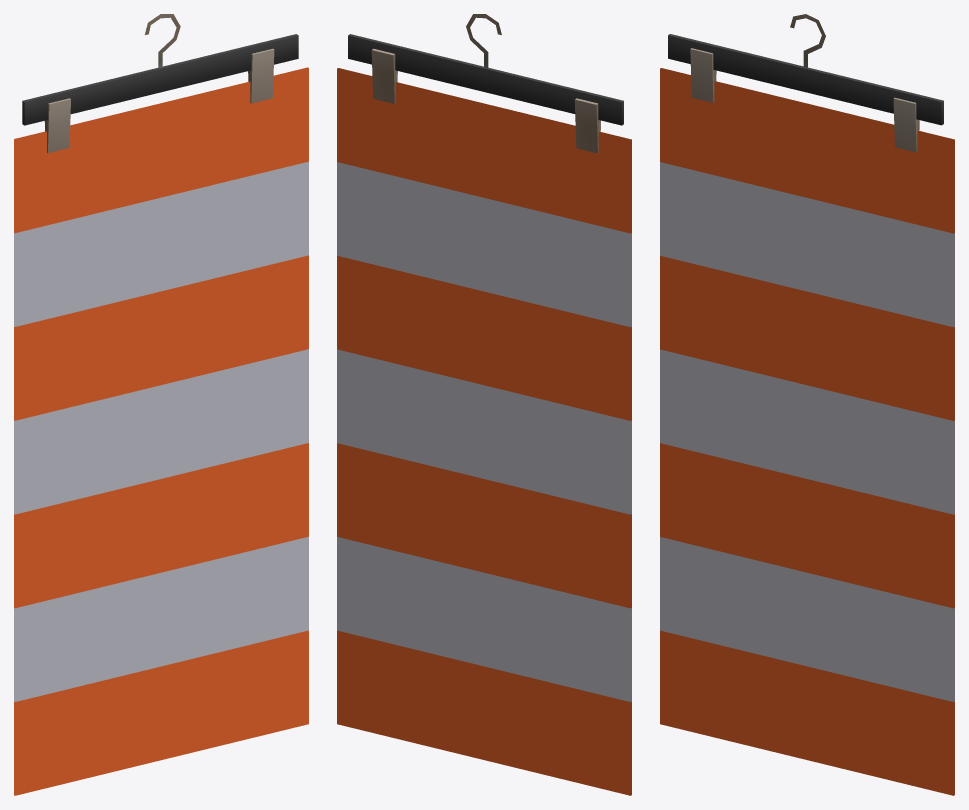
The model's file is Hang_Towel_07.fbx.
The picture shows the model from 3 angles, left to right: view 1: azimuth 30°, elevation 25°; view 2: azimuth 150°, elevation 25°; view 3: azimuth 330°, elevation 25°; orthographic projection.
Parts seen in each view (by area): view 1: Hang_Towel_07; view 2: Hang_Towel_07; view 3: Hang_Towel_07.
Boxes of the visible parts, left/top/right/bottom form: Hang_Towel_07: left=14, top=14, right=308, bottom=795; Hang_Towel_07: left=337, top=14, right=631, bottom=795; Hang_Towel_07: left=660, top=14, right=954, bottom=795.
Bounding box in the file's own units: 0.1666 × 0.4038 × 0.00506.
